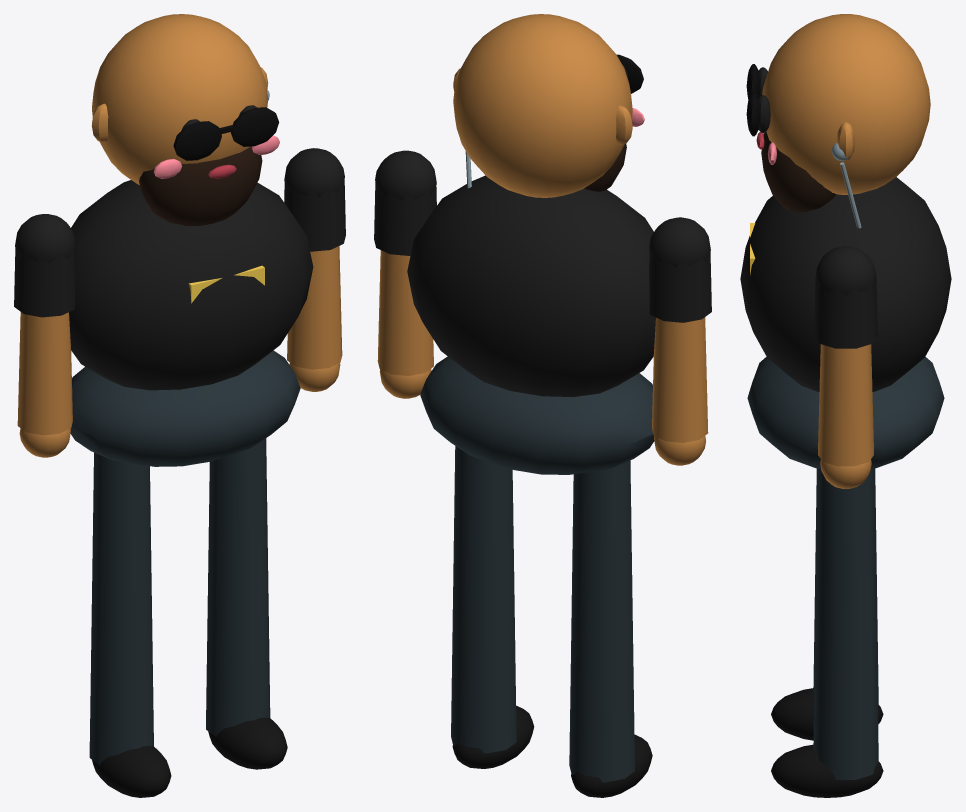
Rendered from interiors_bouncer.glb.
3 renders of one model, left to right at view 1: azimuth 30°, elevation 25°; view 2: azimuth 150°, elevation 25°; view 3: azimuth 270°, elevation 25°, orthographic. The views are drawn at different scales.
Parts seen in each view (by area): view 1: Body.001, Leg_R.001, Leg_L.001, Arm_R.001, Arm_L.001, Acc.001; view 2: Body.001, Leg_R.001, Leg_L.001, Arm_R.001, Arm_L.001; view 3: Body.001, Leg_L.001, Arm_L.001, Leg_R.001, Acc.001.
Part boxes in pixels (left/top/right/bottom): Body.001: left=69, top=14, right=313, bottom=466; Leg_R.001: left=89, top=452, right=171, bottom=797; Leg_L.001: left=206, top=438, right=287, bottom=769; Arm_R.001: left=14, top=214, right=75, bottom=457; Arm_L.001: left=284, top=148, right=345, bottom=391; Acc.001: left=188, top=89, right=269, bottom=303; Body.001: left=407, top=14, right=655, bottom=474; Leg_R.001: left=569, top=460, right=652, bottom=797; Leg_L.001: left=451, top=446, right=534, bottom=768; Arm_R.001: left=649, top=217, right=711, bottom=465; Arm_L.001: left=374, top=150, right=436, bottom=398; Body.001: left=740, top=14, right=951, bottom=468; Leg_L.001: left=771, top=468, right=883, bottom=797; Arm_L.001: left=814, top=246, right=877, bottom=488; Leg_R.001: left=771, top=468, right=883, bottom=740; Acc.001: left=750, top=142, right=861, bottom=275.
Size of the model in its own units: 0.9656 by 2.14 by 0.55.
